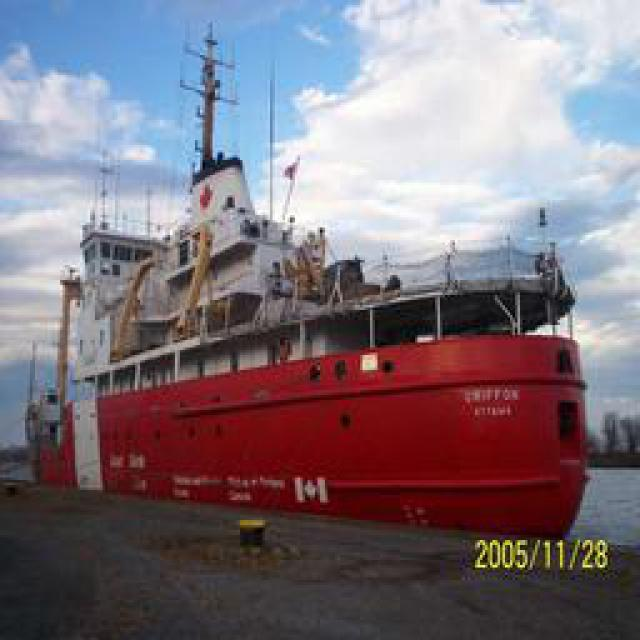Ship: (42, 91, 592, 526)
